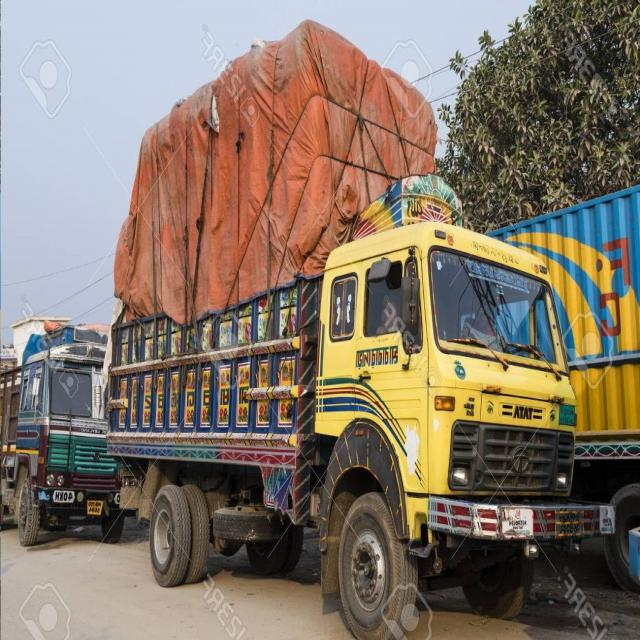truck: (110, 17, 600, 638), (0, 302, 113, 551)
